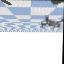drone: (40, 15, 64, 29)
